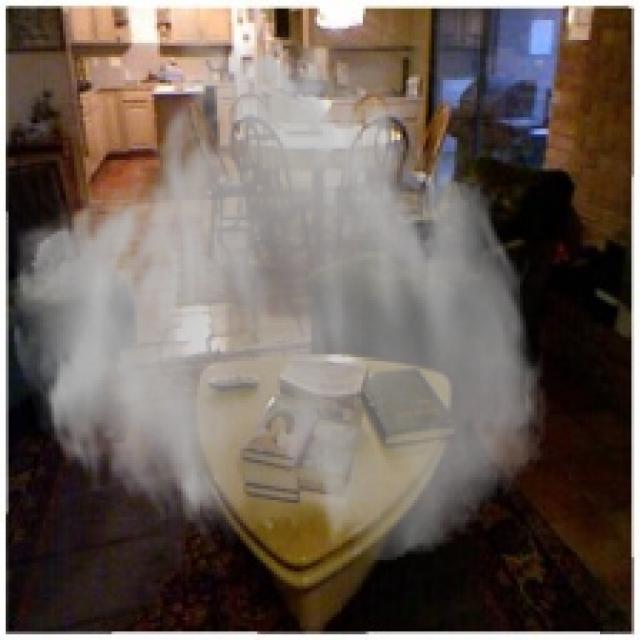smoke: (6, 14, 551, 566)
